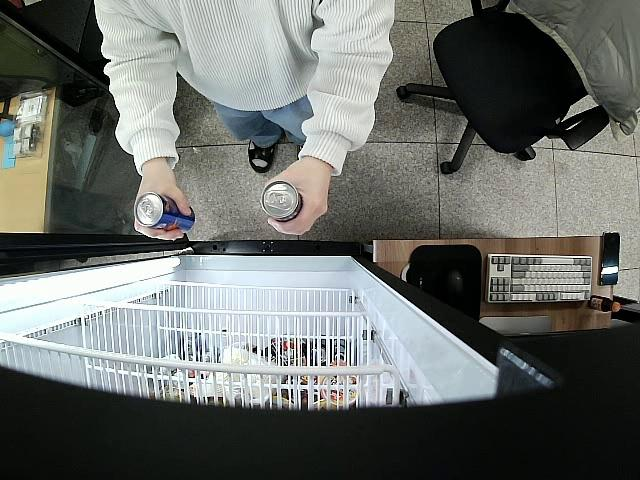00_hand: (263, 165, 328, 236), (134, 177, 192, 240)
16_hot6: (136, 194, 195, 235), (260, 183, 303, 223)
